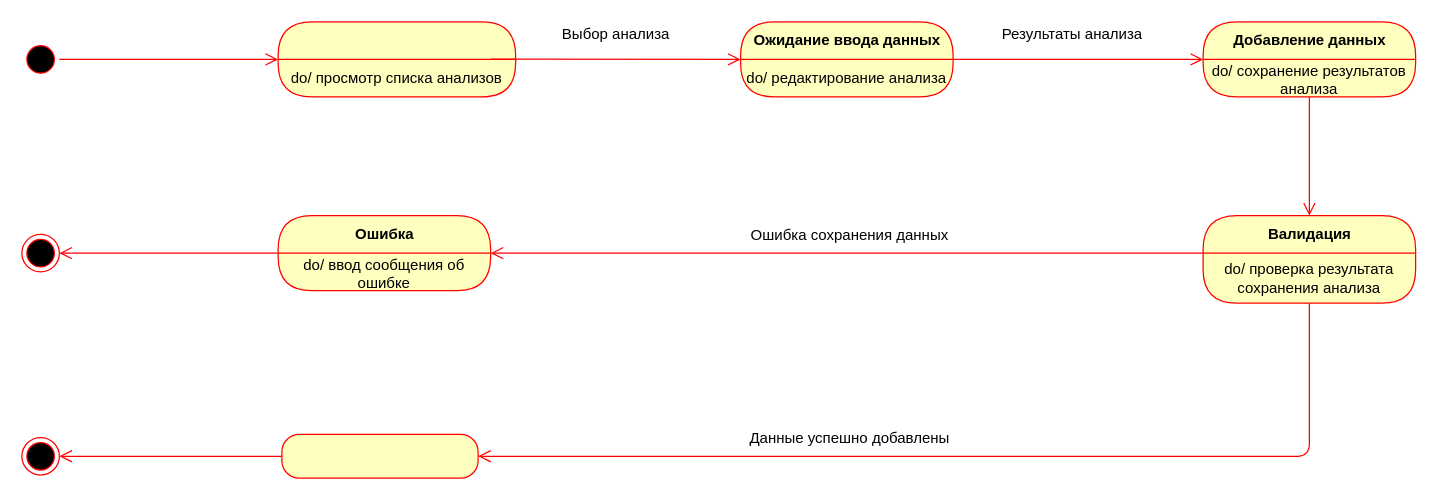
The diagram is 1438 pixels wide and 500 high, and some of its shapes have lost their labels. Here are the shapes that lost their labels. From the top down, the box of each, then its label:
(277, 21, 516, 97): Ожидание выбора анализа
(281, 433, 478, 478): Результаты анализа сохранены
